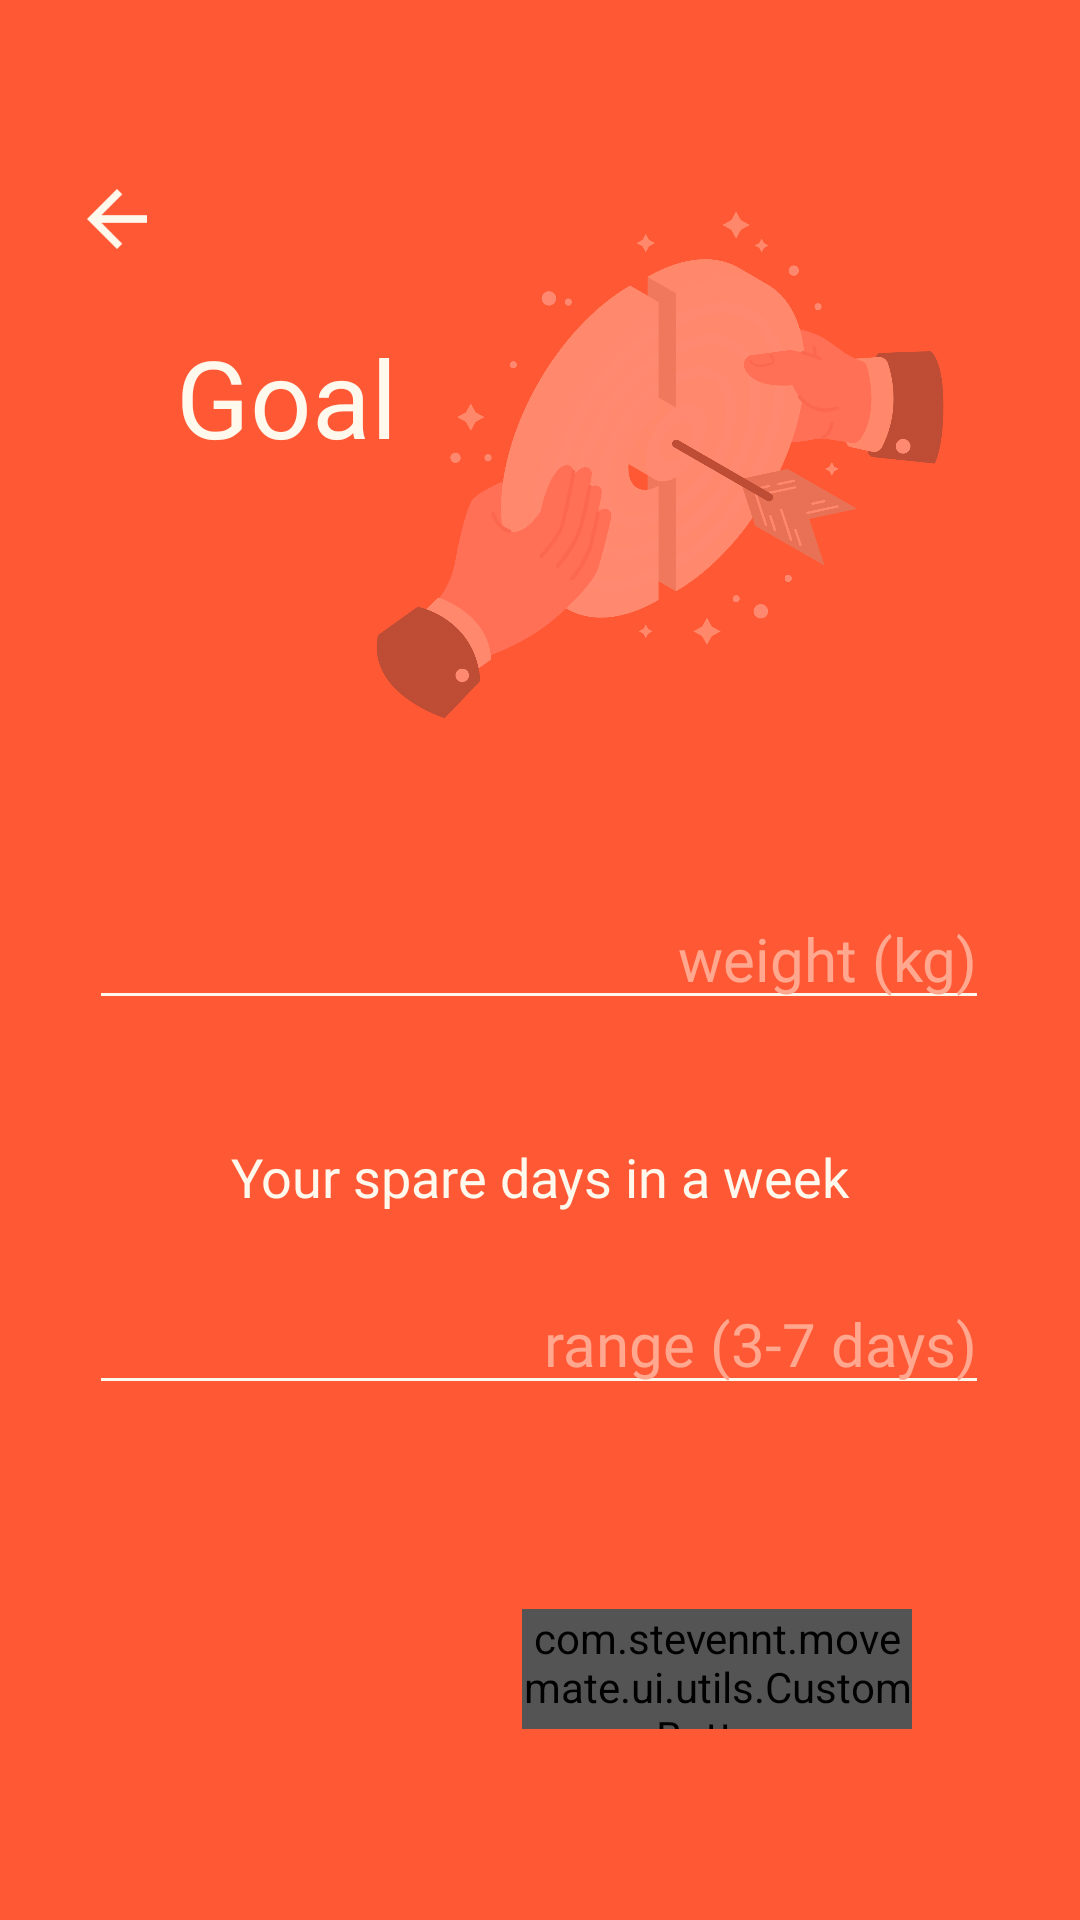

Icon bounding boxes for this 1080x1920 phone screenshot, format (x1, y1, x2, y2):
arrow back: (87, 189, 147, 249)
